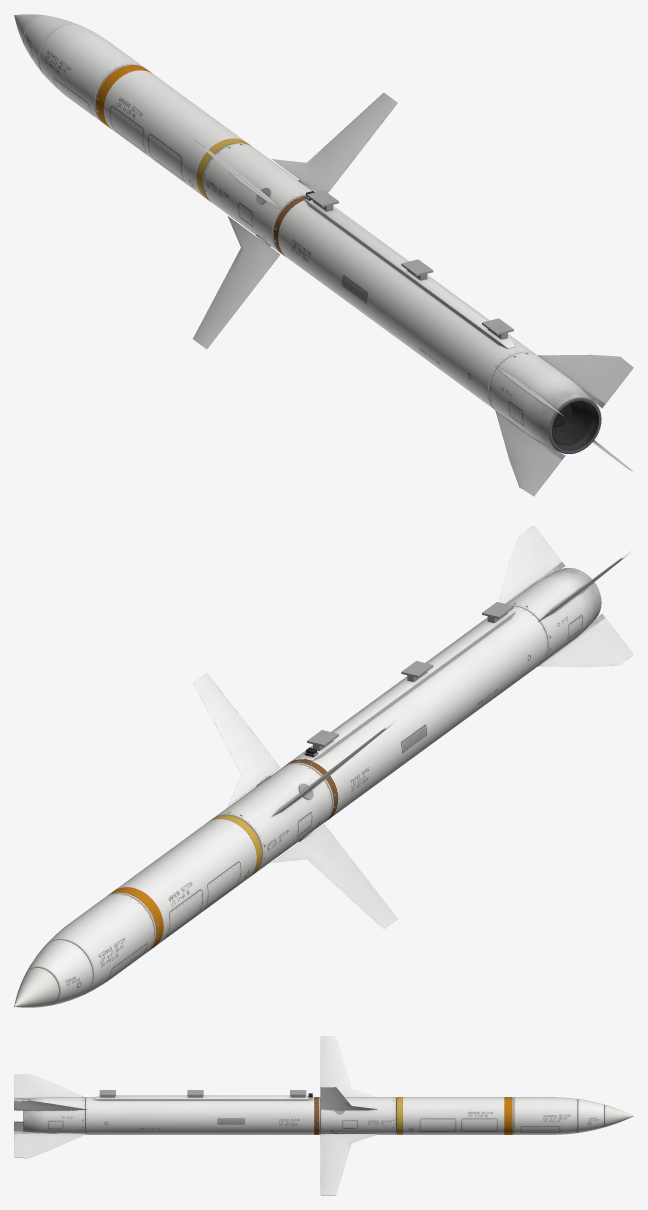
Rendered from agm88.glb.
3 renders of one model, top to bottom at view 1: azimuth 30°, elevation 25°; view 2: azimuth 150°, elevation 25°; view 3: azimuth 270°, elevation 25°, orthographic. The views are drawn at different scales.
Parts seen in each view (by area): view 1: HRM_body, HRM_tail, HRM_fixed, wing_c3, wing_c1; view 2: HRM_body, HRM_tail, HRM_fixed, wing_c1, wing_c3; view 3: HRM_body, HRM_tail, wing_c2, HRM_fixed, wing_c4, wing_c1.
Boxes of the visible parts, bbox=[...] form: HRM_body: bbox=[14, 14, 601, 453]; HRM_tail: bbox=[495, 354, 633, 496]; HRM_fixed: bbox=[97, 65, 527, 400]; wing_c3: bbox=[193, 216, 280, 348]; wing_c1: bbox=[271, 92, 397, 192]; HRM_body: bbox=[14, 568, 601, 1007]; HRM_tail: bbox=[498, 525, 633, 667]; HRM_fixed: bbox=[120, 602, 551, 938]; wing_c1: bbox=[193, 673, 280, 805]; wing_c3: bbox=[271, 824, 397, 929]; HRM_body: bbox=[23, 1097, 633, 1134]; HRM_tail: bbox=[14, 1073, 86, 1158]; wing_c2: bbox=[320, 1134, 377, 1195]; HRM_fixed: bbox=[82, 1090, 511, 1127]; wing_c4: bbox=[320, 1036, 375, 1096]; wing_c1: bbox=[320, 1086, 376, 1110].
Bounding box in the file's own units: 0.8118 × 0.8118 × 4.17.
4 materials, 4 textured.
